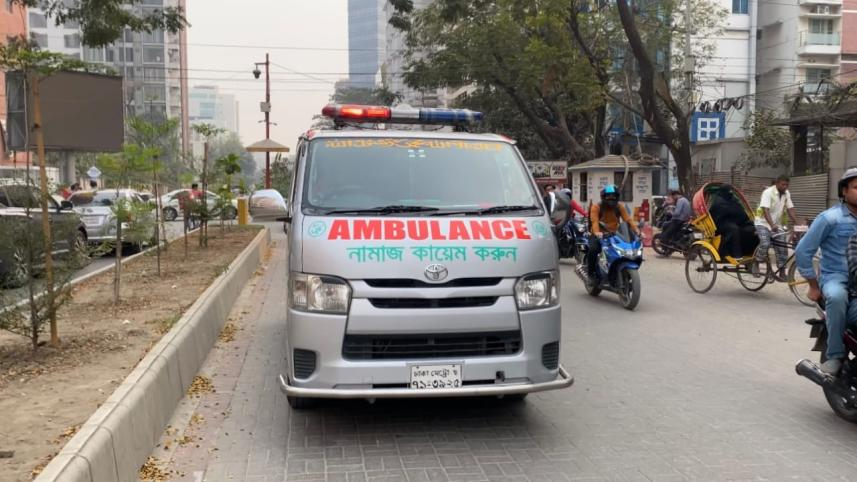Ambulance: (284, 90, 578, 445)
Bikes: (795, 233, 857, 443), (581, 193, 654, 316), (655, 202, 699, 261), (552, 197, 586, 268)
auto-ricksaw: (685, 183, 807, 303)
private car: (4, 178, 110, 288), (67, 185, 157, 241), (158, 187, 240, 225)
